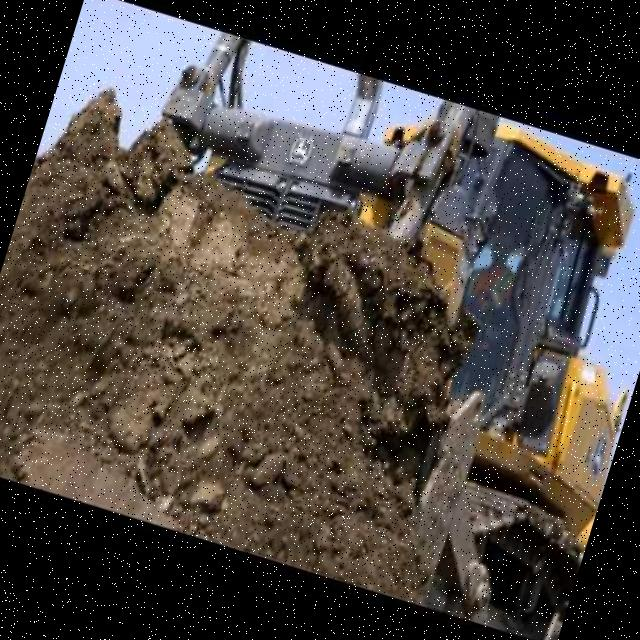Bulldozer: (20, 16, 640, 640)
